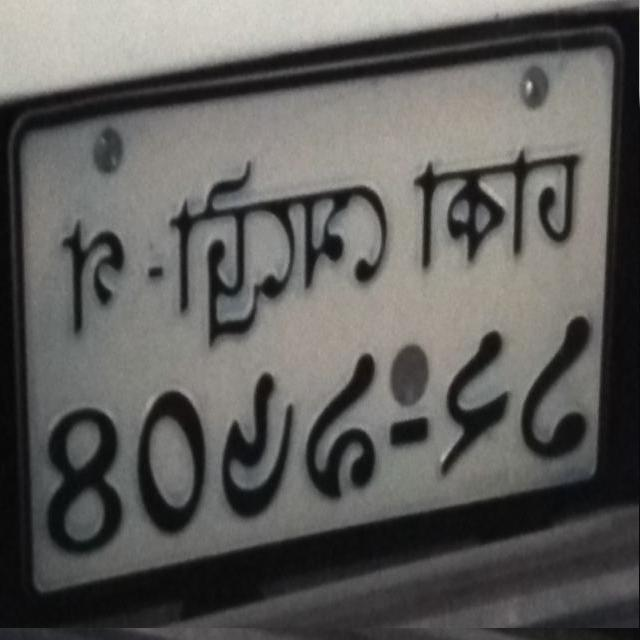numberplate: (0, 0, 639, 628)
